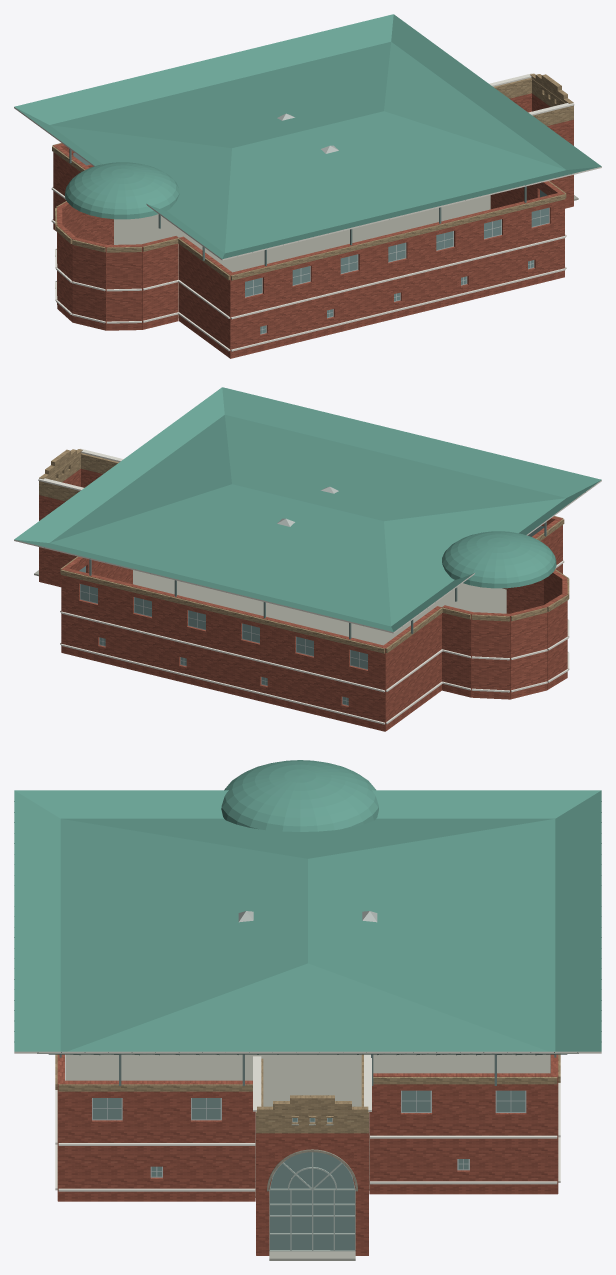
3 renders of one model, top to bottom at view 1: azimuth 30°, elevation 25°; view 2: azimuth 150°, elevation 25°; view 3: azimuth 270°, elevation 25°, orthographic. The views are drawn at different scales.
Parts seen in each view (by area): view 1: gym__roof, gym__brick, gym__slab, gym__tanbrick, gym__trim, gym__glass, gym__frame; view 2: gym__roof, gym__brick, gym__slab, gym__tanbrick, gym__trim, gym__glass, gym__frame; view 3: gym__roof, gym__brick, gym__slab, gym__glass, gym__tanbrick, gym__trim, gym__archmetal, gym__soffitjoint, gym__frame, gym__threshold.
Part boxes in pixels (box(x1,y1,x2,y2)): gym__roof: box(14, 14, 601, 258); gym__brick: box(53, 93, 573, 358); gym__slab: box(114, 195, 490, 317); gym__tanbrick: box(52, 73, 573, 280); gym__trim: box(14, 73, 601, 351); gym__glass: box(73, 153, 548, 333); gym__frame: box(245, 207, 549, 334); gym__roof: box(14, 387, 601, 631); gym__brick: box(39, 468, 567, 731); gym__slab: box(133, 570, 506, 645); gym__tanbrick: box(39, 449, 569, 653); gym__trim: box(14, 448, 601, 724); gym__glass: box(79, 526, 544, 704); gym__frame: box(80, 584, 367, 705); gym__roof: box(14, 760, 601, 1051); gym__brick: box(57, 1054, 558, 1255); gym__slab: box(65, 1054, 550, 1197); gym__glass: box(93, 1090, 525, 1250); gym__tanbrick: box(55, 1054, 560, 1133); gym__trim: box(14, 1051, 601, 1191); gym__archmetal: box(269, 1152, 355, 1251); gym__soffitjoint: box(14, 801, 601, 1055); gym__frame: box(92, 1090, 526, 1177); gym__threshold: box(269, 1251, 355, 1260).
Size of the model in its own units: 53.3 by 12.9 by 38.04.
13 materials, 3 textured.
